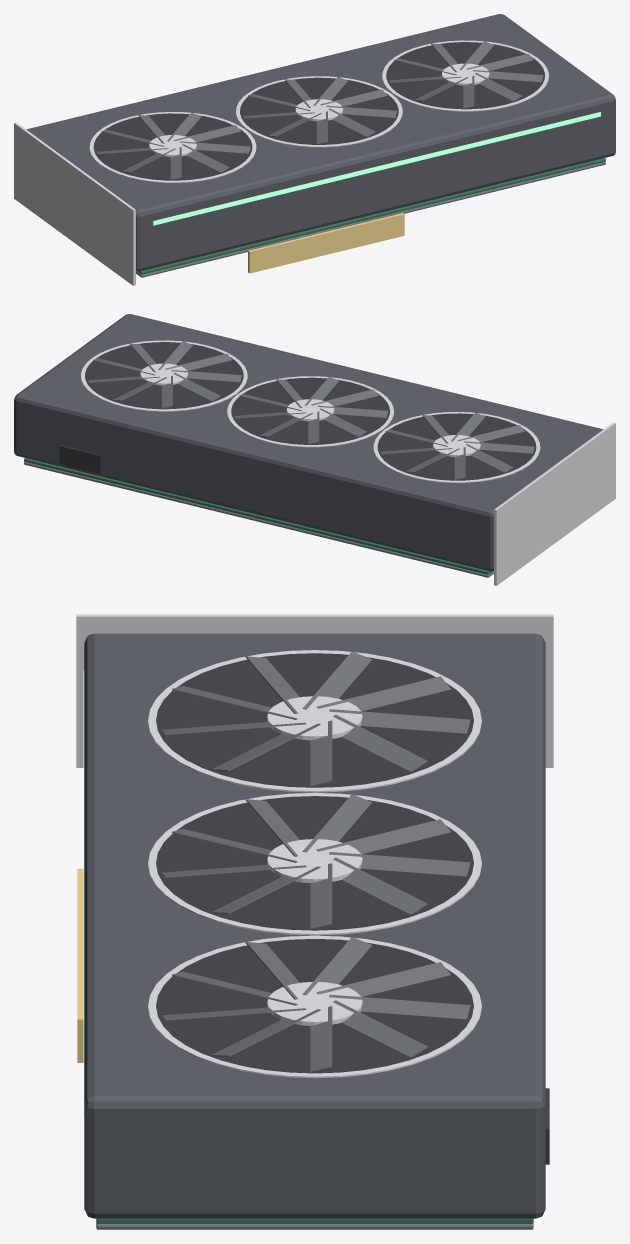
File: pcie.glb
3 renders of one model, top to bottom at view 1: azimuth 30°, elevation 25°; view 2: azimuth 150°, elevation 25°; view 3: azimuth 270°, elevation 25°, orthographic. The views are drawn at different scales.
Visible parts, largest first — view 1: shroud, bracket, fan0, fan2, fan1, pcie.001, stripe, pcb, backplate, ring2, ring1, ring0 (+12 smaller); view 2: shroud, bracket, fan0, fan1, fan2, pcb, backplate, ring2, ring1, ring0, pwr, hub1 (+11 smaller); view 3: shroud, fan1, fan2, fan0, bracket, ring0, ring2, ring1, backplate, hub2, hub0, hub1 (+24 smaller).
Boxes of the visible parts, box(x1,y1,x2,y2) form: shroud: box(26, 14, 615, 271); bracket: box(14, 122, 135, 285); fan0: box(93, 113, 252, 180); fan2: box(386, 42, 544, 109); fan1: box(240, 77, 398, 144); pcie.001: box(248, 213, 404, 273); stripe: box(153, 112, 600, 225); pcb: box(137, 158, 605, 274); backplate: box(136, 162, 605, 277); ring2: box(382, 40, 548, 111); ring1: box(236, 76, 402, 147); ring0: box(89, 112, 256, 182); shroud: box(14, 314, 603, 571); bracket: box(494, 422, 615, 585); fan0: box(377, 413, 536, 480); fan1: box(231, 377, 389, 444); fan2: box(85, 342, 243, 409); pcb: box(24, 458, 492, 574); backplate: box(24, 462, 493, 577); ring2: box(81, 340, 247, 411); ring1: box(227, 376, 393, 447); ring0: box(373, 412, 540, 482); pwr: box(59, 445, 101, 473); hub1: box(286, 399, 334, 421); shroud: box(84, 633, 545, 1218); fan1: box(156, 796, 473, 930); fan2: box(156, 939, 473, 1073); fan0: box(156, 653, 473, 787); bracket: box(76, 614, 553, 767); ring0: box(148, 650, 481, 792); ring2: box(148, 935, 481, 1078); ring1: box(148, 793, 481, 935); backplate: box(96, 1223, 533, 1229); hub2: box(267, 982, 362, 1025); hub0: box(267, 696, 362, 740); hub1: box(267, 839, 362, 882).
Size of the model in its own units: 28.27 by 5.1 by 12.
